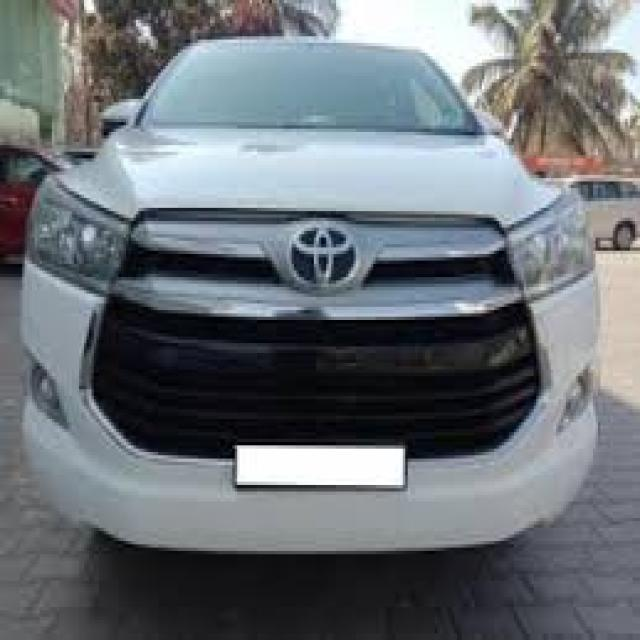light_vehicle: (22, 36, 601, 552)
